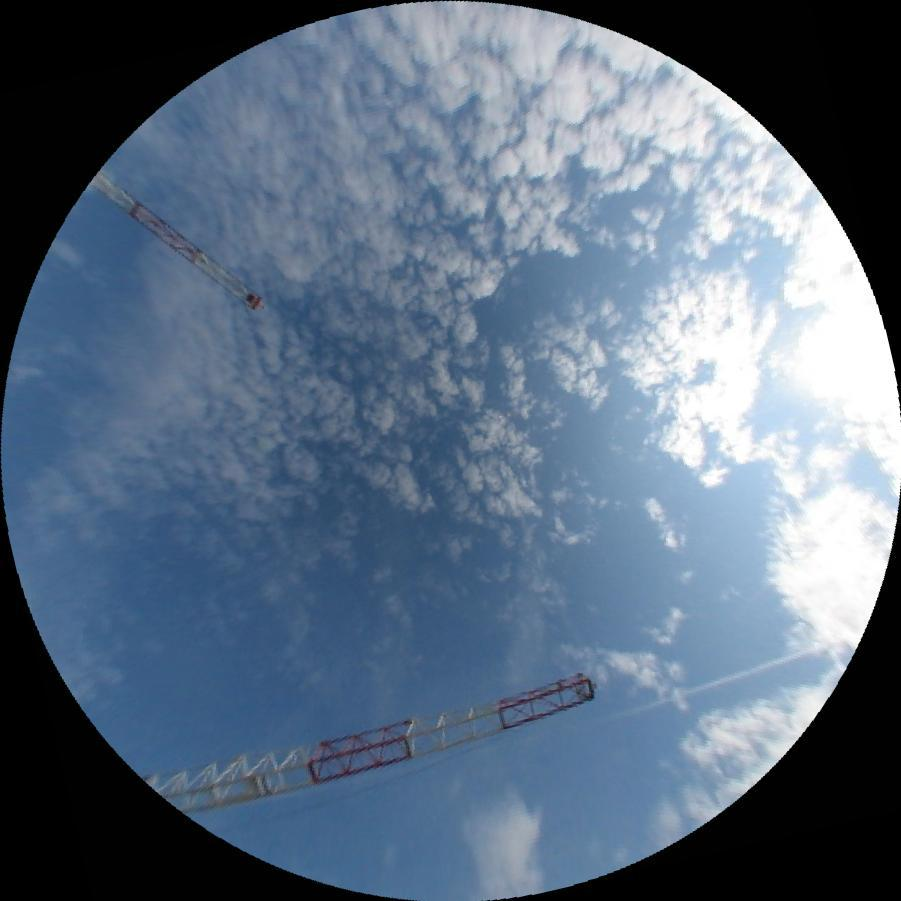contrail young: (596, 642, 827, 725)
